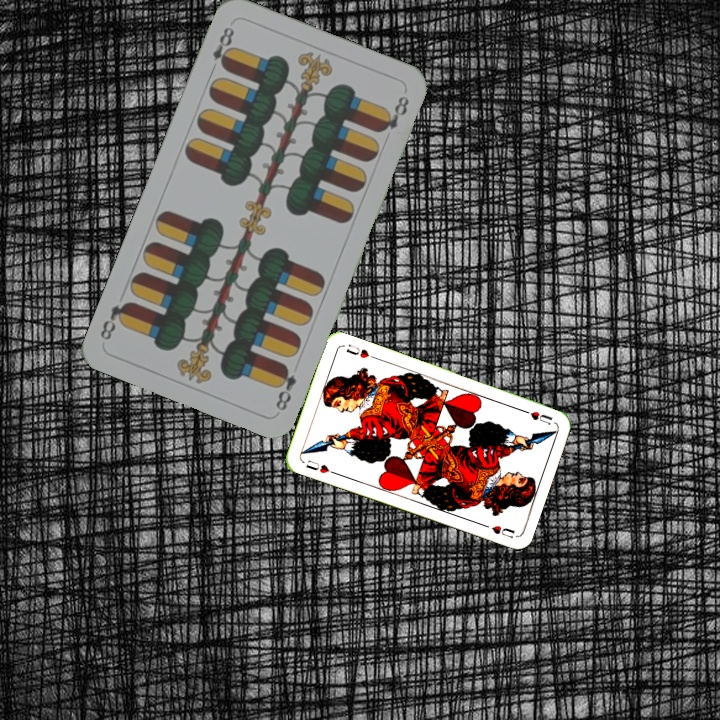E8: (206, 22, 237, 76), (271, 361, 299, 414)
HU: (517, 405, 555, 427), (302, 456, 338, 477)
